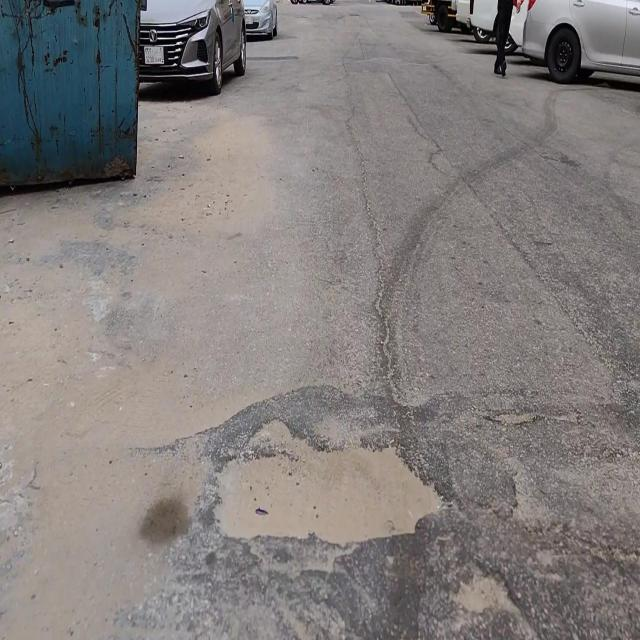Pothole: (211, 413, 446, 551)
